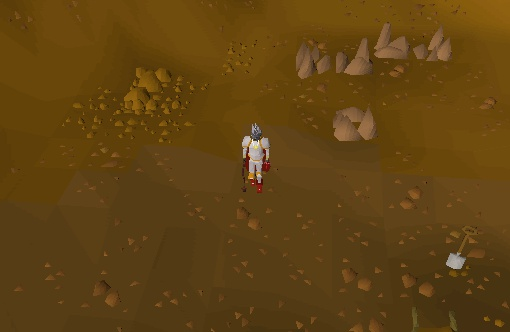copper: (322, 99, 390, 150), (287, 37, 339, 87)
